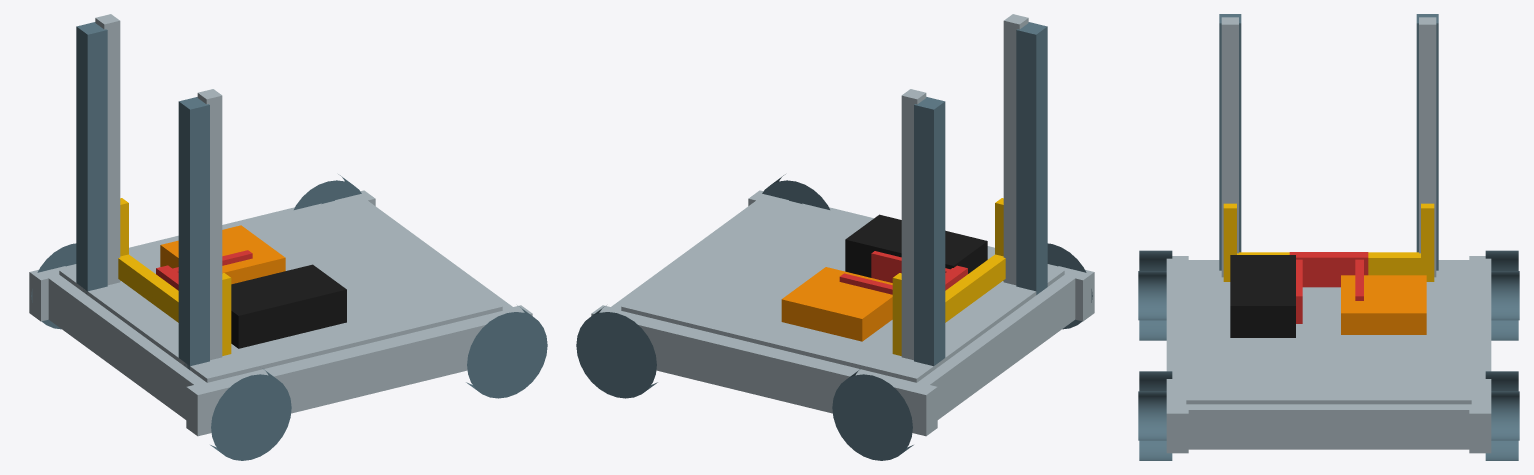
Rendered from robot.glb.
The picture shows the model from 3 angles, left to right: view 1: azimuth 30°, elevation 25°; view 2: azimuth 150°, elevation 25°; view 3: azimuth 270°, elevation 25°; orthographic projection. The views are drawn at different scales.
Visible parts, largest first — view 1: Chassis, Lift Base, Lift Stage 1, Battery, Wheel FR, Wheel BR, Lift Carriage, Control Hub, Wheel FL, Wheel BL; view 2: Chassis, Lift Base, Lift Stage 1, Control Hub, Wheel FL, Wheel BL, Battery, Lift Carriage, Wheel FR, Finger R, Wheel BR, Finger L; view 3: Chassis, Lift Stage 1, Battery, Control Hub, Lift Carriage, Lift Base, Wheel FL, Wheel FR, Wheel BL, Wheel BR, Claw, Finger R.
Part boxes in pixels (x1,y1,x2,y2): Chassis: [29, 190, 532, 436]; Lift Base: [76, 22, 209, 369]; Lift Stage 1: [95, 14, 222, 360]; Battery: [231, 264, 346, 348]; Wheel FR: [466, 305, 547, 398]; Wheel BR: [210, 368, 291, 460]; Lift Carriage: [118, 198, 231, 355]; Control Hub: [160, 225, 285, 284]; Wheel FL: [294, 174, 361, 209]; Wheel BL: [31, 243, 76, 329]; Chassis: [591, 190, 1094, 436]; Lift Base: [914, 22, 1047, 366]; Lift Stage 1: [901, 14, 1028, 360]; Control Hub: [781, 267, 892, 341]; Wheel FL: [576, 305, 657, 398]; Wheel BL: [832, 368, 913, 460]; Battery: [845, 214, 987, 277]; Lift Carriage: [892, 198, 1005, 355]; Wheel FR: [762, 174, 829, 209]; Finger R: [871, 251, 949, 282]; Wheel BR: [1047, 243, 1092, 329]; Finger L: [839, 273, 892, 294]; Chassis: [1166, 256, 1491, 453]; Lift Stage 1: [1221, 17, 1436, 277]; Battery: [1230, 255, 1295, 337]; Control Hub: [1341, 275, 1426, 334]; Lift Carriage: [1223, 203, 1434, 281]; Lift Base: [1219, 14, 1438, 270]; Wheel FL: [1485, 371, 1519, 460]; Wheel FR: [1138, 371, 1172, 460]; Wheel BL: [1485, 250, 1519, 340]; Wheel BR: [1138, 250, 1172, 340]; Claw: [1289, 252, 1368, 287]; Finger R: [1296, 259, 1302, 323].
Bounding box in the file's own units: 0.4342 × 0.4064 × 0.442.
